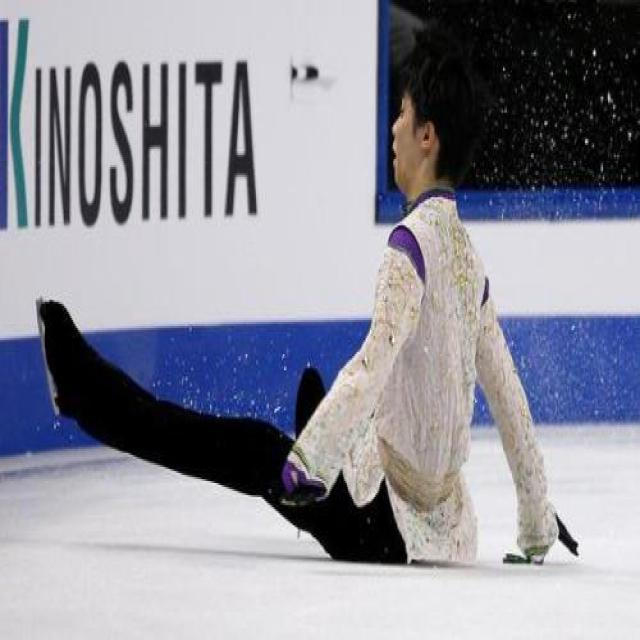down: (25, 38, 582, 572)
